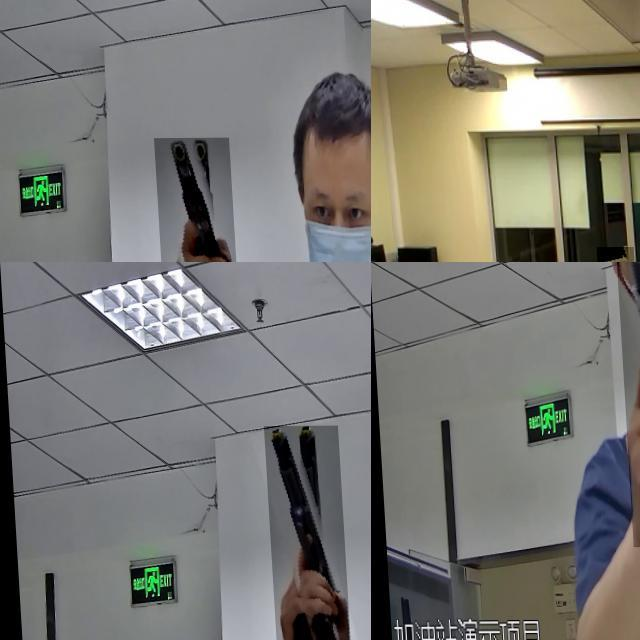gun-knife-thesis - v11 Yolov5 augmented: (261, 426, 346, 640), (149, 138, 234, 262), (592, 247, 631, 262)
